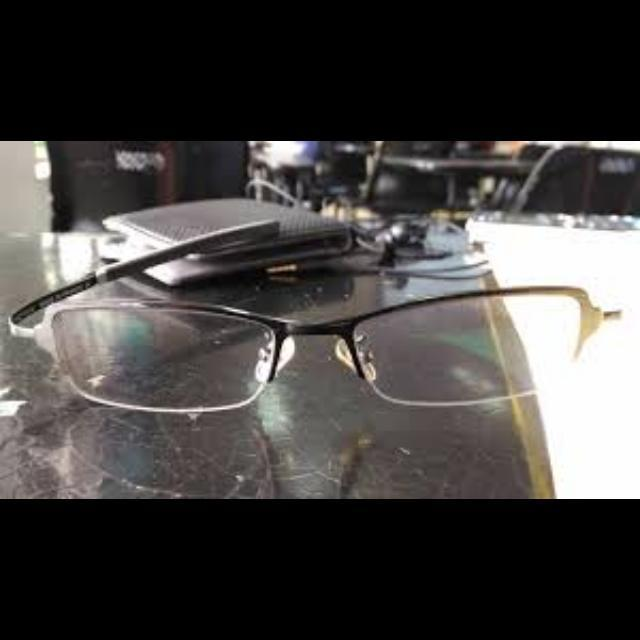glasses: (6, 222, 622, 408)
